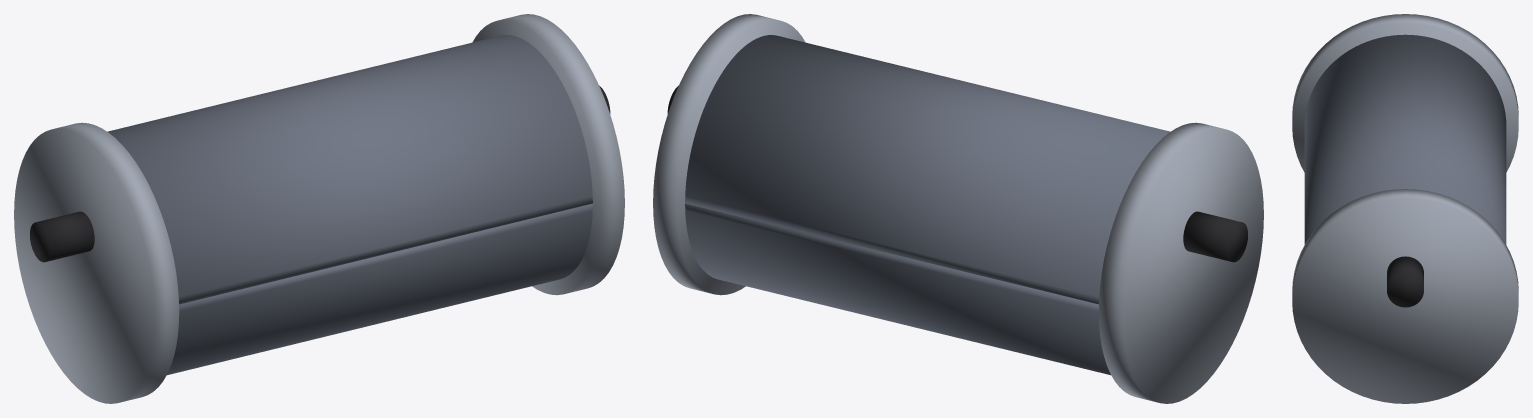
File: garrafa-alimentacao.glb
3 renders of one model, left to right at view 1: azimuth 30°, elevation 25°; view 2: azimuth 150°, elevation 25°; view 3: azimuth 270°, elevation 25°, orthographic. The views are drawn at different scales.
Visible parts, largest first — view 1: garrafa_tubo_superior, garrafa_tampa_entrada, garrafa_tubo_inferior, garrafa_tampa_saida, conector_entrada_600v; view 2: garrafa_tubo_superior, garrafa_tampa_entrada, garrafa_tubo_inferior, garrafa_tampa_saida, conector_entrada_600v; view 3: garrafa_tampa_saida, garrafa_tubo_superior, garrafa_tampa_entrada, conector_saida_15v.
Part boxes in pixels (x1,y1,x2,y2): garrafa_tubo_superior: [107, 35, 592, 304]; garrafa_tampa_entrada: [14, 122, 179, 403]; garrafa_tubo_inferior: [167, 203, 592, 375]; garrafa_tampa_saida: [472, 14, 624, 295]; conector_entrada_600v: [30, 211, 94, 262]; garrafa_tubo_superior: [685, 35, 1170, 304]; garrafa_tampa_entrada: [1098, 122, 1263, 403]; garrafa_tubo_inferior: [685, 203, 1110, 375]; garrafa_tampa_saida: [653, 14, 805, 295]; conector_entrada_600v: [1183, 211, 1247, 262]; garrafa_tampa_saida: [1292, 189, 1518, 403]; garrafa_tubo_superior: [1304, 34, 1506, 244]; garrafa_tampa_entrada: [1292, 14, 1518, 172]; conector_saida_15v: [1387, 256, 1423, 307].
Bounding box in the file's own units: 0.504 × 0.22 × 0.22.
